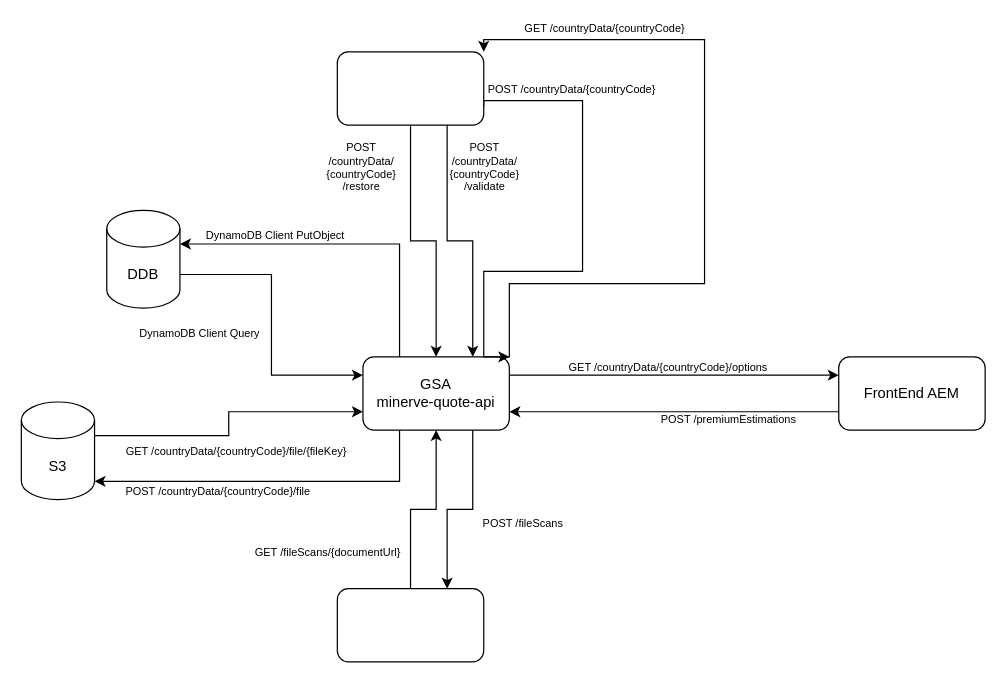
The diagram is 1007 pixels wide and 683 high, and some of its shapes have lost their labels. The shapes that lost their labels are listed below. From the top down, each one's centre as x and y in pixels, then its label:
the point at 410,88: BackEnd
the point at 410,624: JADE Security
